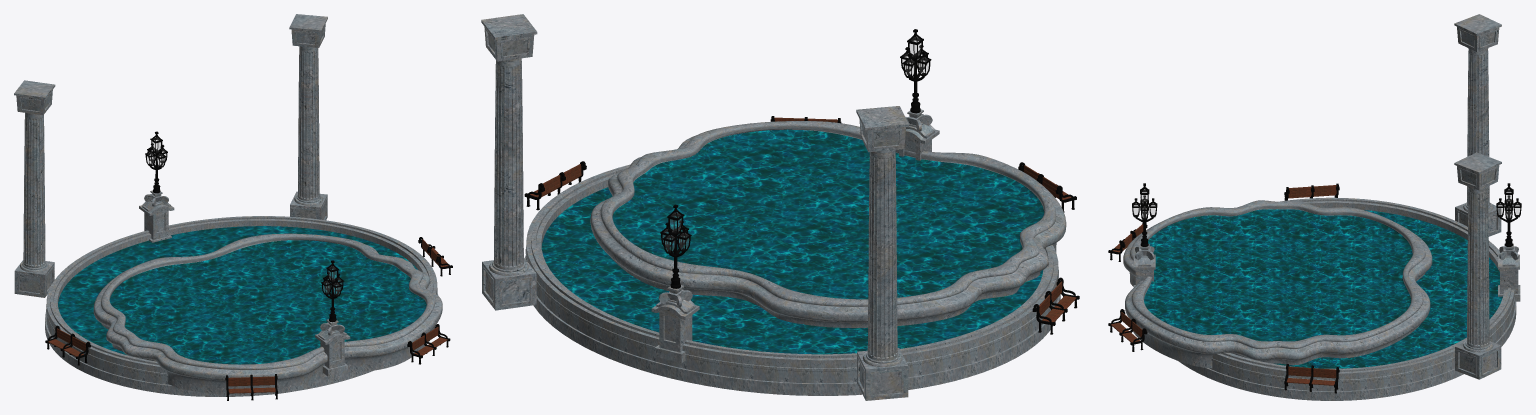
The model's file is fbxFountain.fbx.
3 renders of one model, left to right at view 1: azimuth 30°, elevation 25°; view 2: azimuth 150°, elevation 25°; view 3: azimuth 270°, elevation 25°, orthographic. The views are drawn at different scales.
Parts seen in each view (by area): view 1: pool, pilar1, pilar, buildingRender:building:lamp18, lamp18, bench5, bench3, bench, bench4; view 2: pool, pilar, pilar1, lamp18, buildingRender:building:lamp18, bench3, bench4, bench5; view 3: pool, pilar, pilar1, lamp18, buildingRender:building:lamp18, bench4, bench, bench3, bench5.
Part boxes in pixels (bbox=[...]): pool: bbox=[45, 216, 442, 396]; pilar1: bbox=[14, 80, 55, 297]; pilar: bbox=[289, 14, 327, 220]; buildingRender:building:lamp18: bbox=[315, 260, 350, 376]; lamp18: bbox=[139, 131, 174, 242]; bench5: bbox=[225, 374, 277, 400]; bench3: bbox=[45, 325, 90, 365]; bench: bbox=[407, 324, 450, 364]; bench4: bbox=[418, 237, 452, 276]; pool: bbox=[525, 121, 1066, 395]; pilar: bbox=[481, 14, 537, 310]; pilar1: bbox=[856, 106, 908, 400]; lamp18: bbox=[651, 204, 699, 362]; buildingRender:building:lamp18: bbox=[899, 29, 939, 160]; bench3: bbox=[1032, 277, 1079, 334]; bench4: bbox=[524, 161, 586, 210]; bench5: bbox=[1018, 162, 1076, 212]; pool: bbox=[1123, 197, 1516, 400]; pilar: bbox=[1454, 152, 1501, 379]; pilar1: bbox=[1454, 14, 1501, 236]; lamp18: bbox=[1496, 183, 1521, 301]; buildingRender:building:lamp18: bbox=[1132, 183, 1157, 287]; bench4: bbox=[1284, 364, 1339, 393]; bench: bbox=[1108, 309, 1147, 351]; bench3: bbox=[1284, 183, 1339, 200]; bench5: bbox=[1108, 223, 1147, 261].
Size of what is drawn, in the model's own units: 7.49 by 3.9 by 6.66.
Materials: 5 (3 with a texture image).
